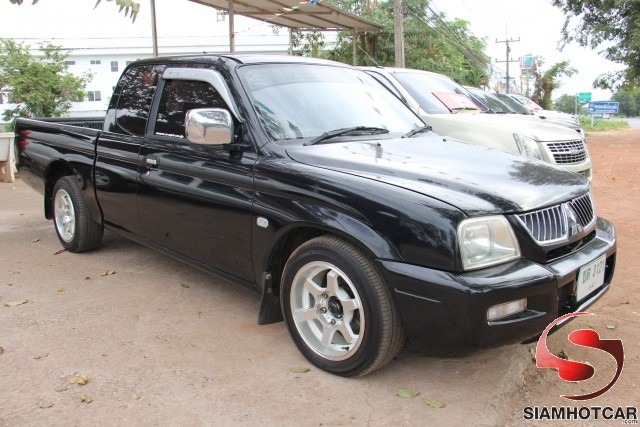pickup: (12, 49, 623, 382)
